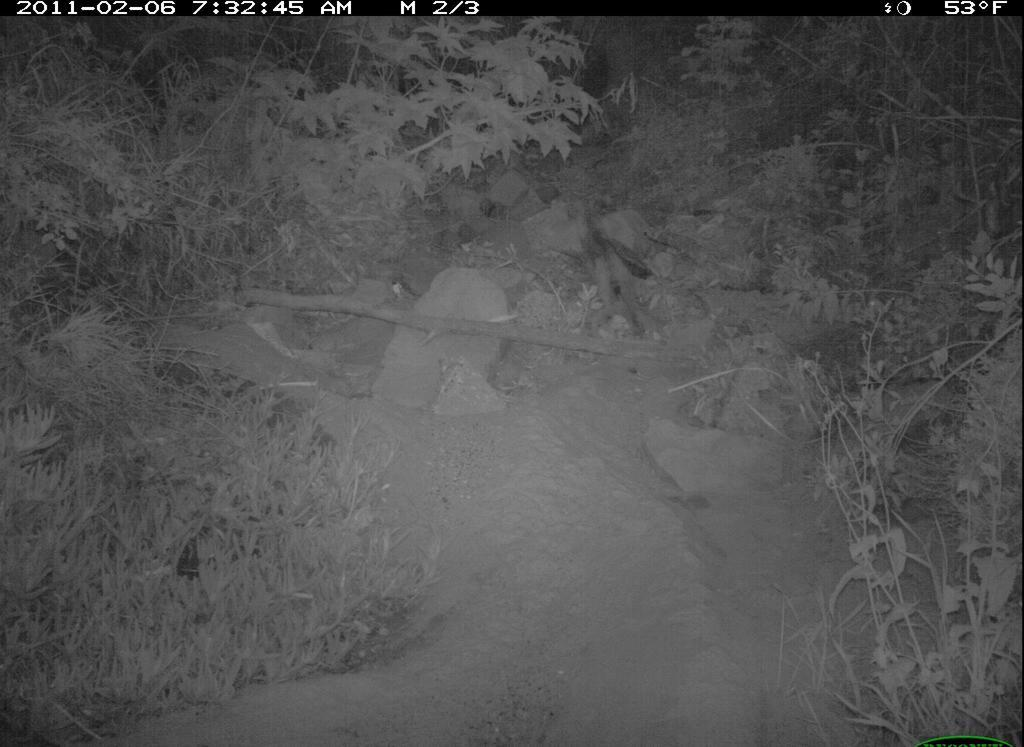bobcat: (582, 221, 658, 342)
